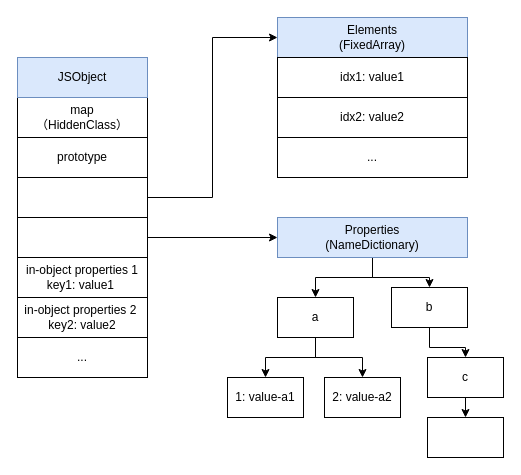
This 521x475 diagram has some shape labels left out. Here are the shapes that lost their labels. From the top down, the centre of each, then its label:
At point 82,197: "elements".
At point 82,237: "properties".
At point 465,437: "1: value-bc1".
